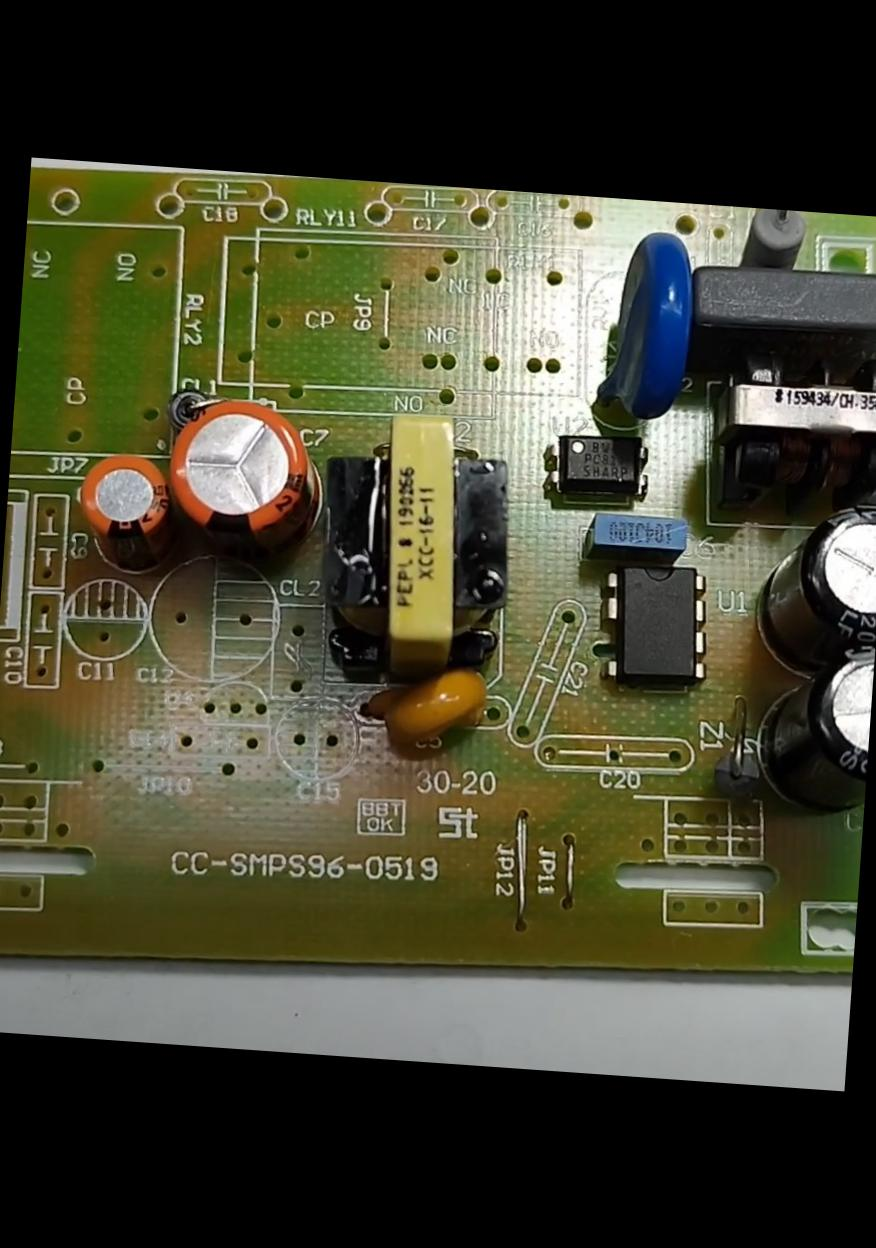Cap1: (160, 384, 326, 571)
Cap2: (67, 438, 189, 579)
Cap3: (747, 486, 875, 681)
Cap4: (738, 621, 876, 825)
MOSFET: (594, 544, 718, 697)
Mov: (587, 216, 706, 444)
Resistor: (734, 207, 818, 272)
Transformer: (308, 398, 522, 698), (697, 337, 875, 525)
